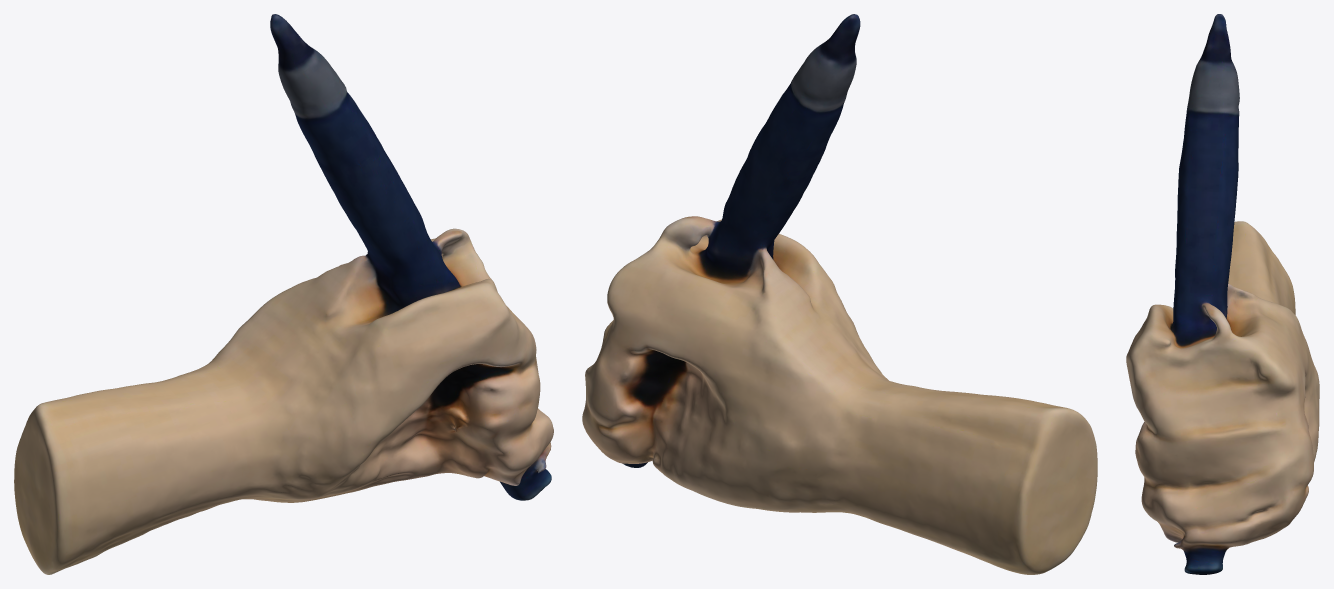
The model's file is cca458e977dc_a_hand_holding_a_pe.fbx.
3 views of the same model, side by side, from view 1: azimuth 30°, elevation 25°; view 2: azimuth 150°, elevation 25°; view 3: azimuth 270°, elevation 25° (orthographic). The views are drawn at different scales.
Visible parts, largest first — view 1: high_poly; view 2: high_poly; view 3: high_poly.
Part boxes in pixels (<box>): high_poly: <box>14,14,553,574</box>; high_poly: <box>582,14,1097,574</box>; high_poly: <box>1126,14,1319,574</box>.
Size of the model in its own units: 98.1 by 100 by 37.97.
